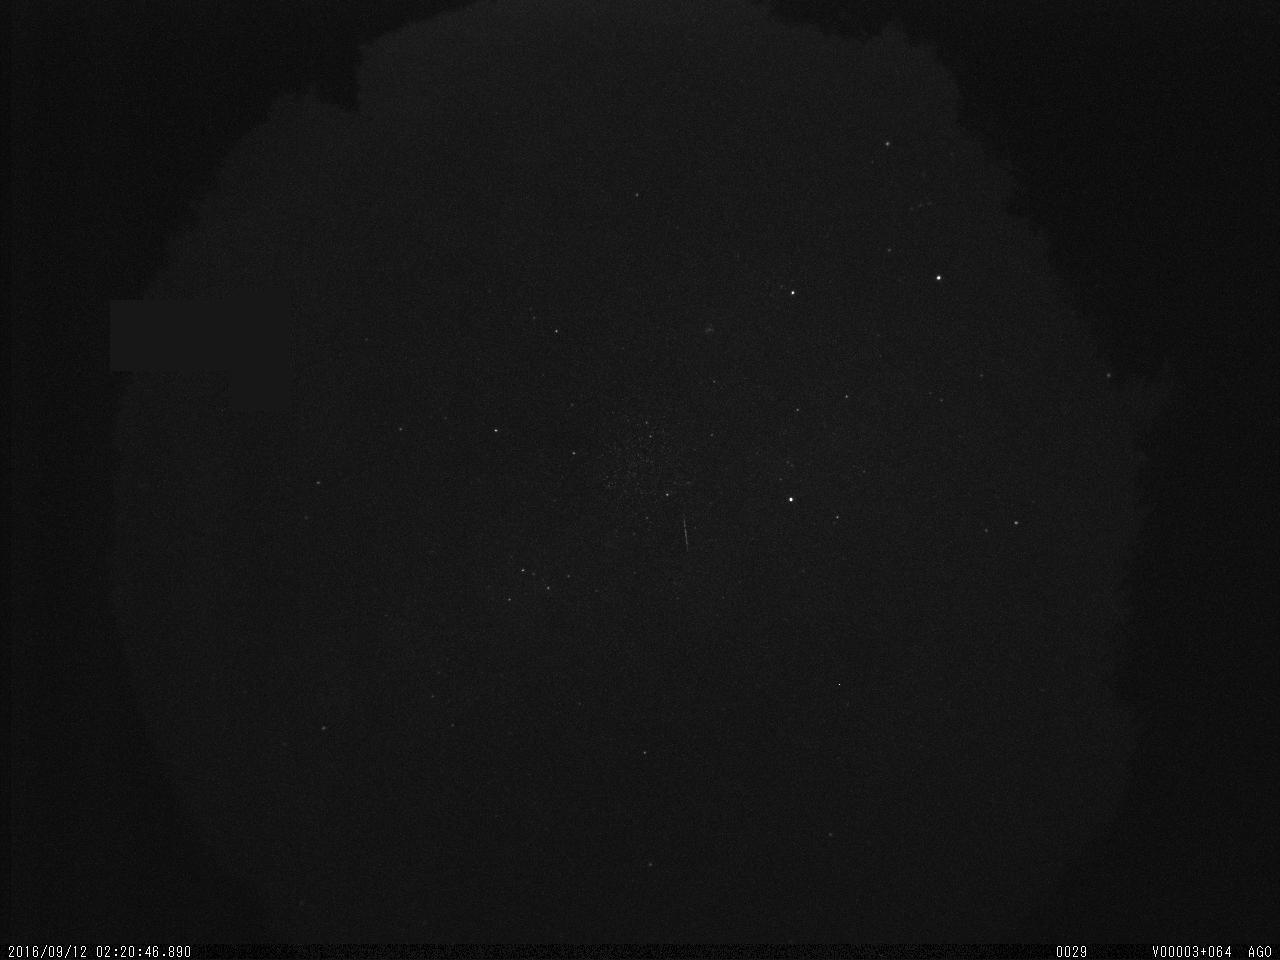meteor: (671, 505, 702, 564)
